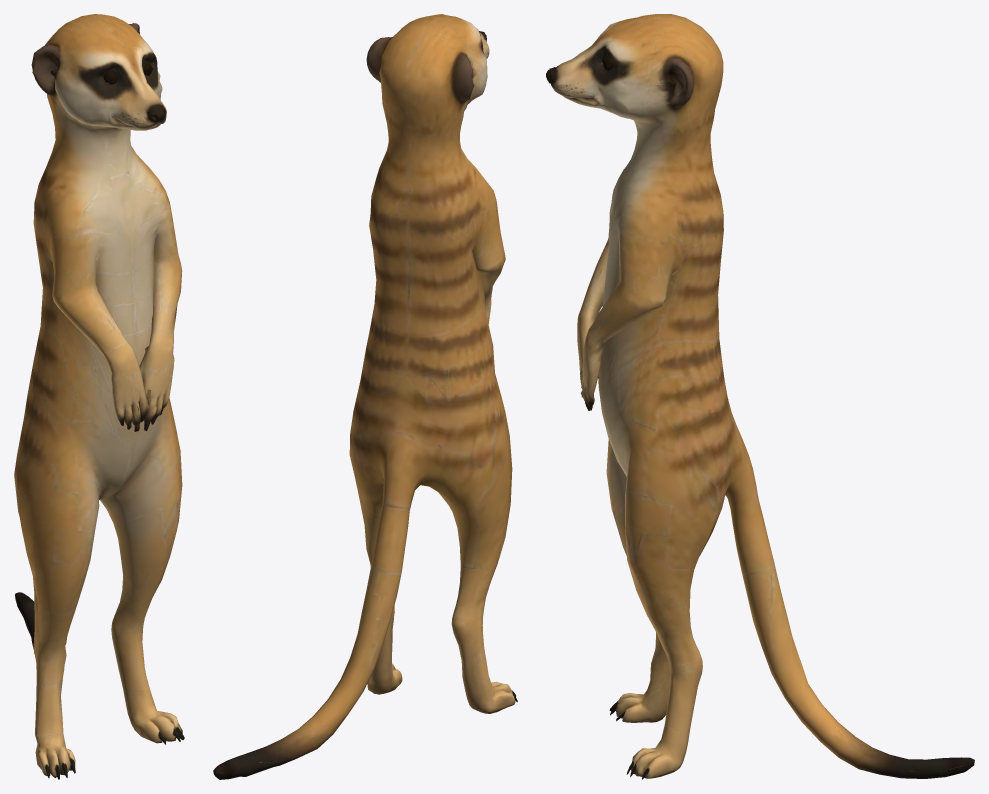
File: meerkat-yomogi-stand.glb
3 renders of one model, left to right at view 1: azimuth 30°, elevation 25°; view 2: azimuth 150°, elevation 25°; view 3: azimuth 270°, elevation 25°, orthographic. The views are drawn at different scales.
Visible parts, largest first — view 1: geometry_0; view 2: geometry_0; view 3: geometry_0.
Part boxes in pixels (box(x1,y1,x2,y2)): geometry_0: box(14, 14, 184, 779); geometry_0: box(213, 14, 517, 779); geometry_0: box(546, 14, 974, 779).
Size of the model in its own units: 0.2139 by 0.9512 by 0.5088.
1 material, 1 textured.
